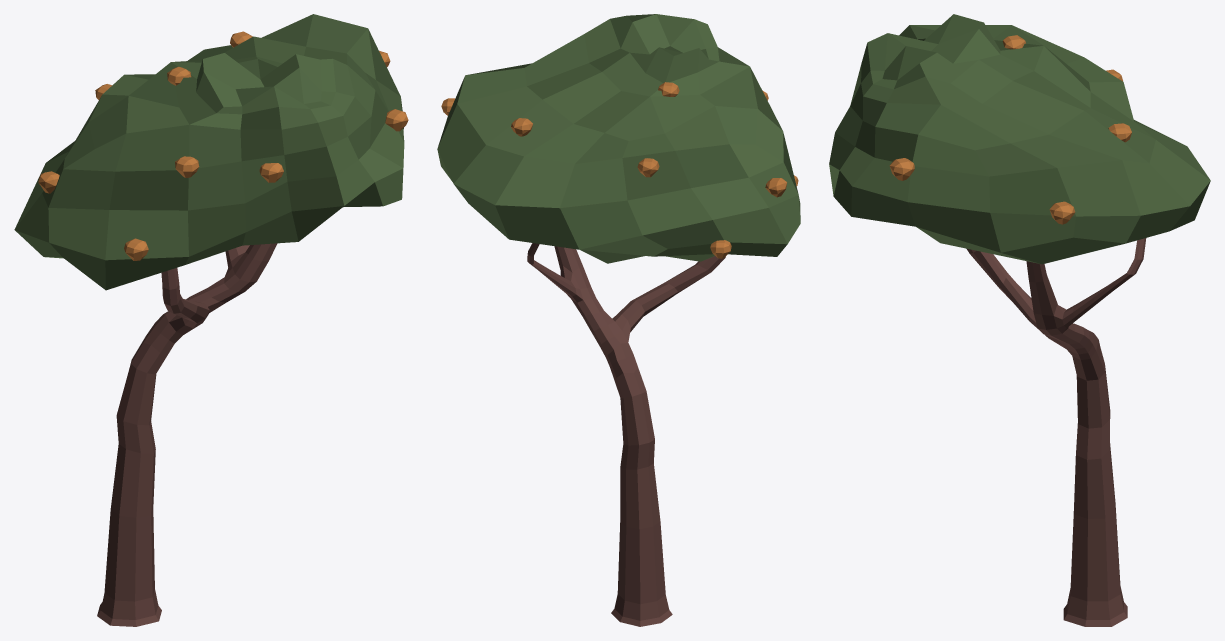
File: orange_4.gltf
The picture shows the model from 3 angles, left to right: view 1: azimuth 30°, elevation 25°; view 2: azimuth 150°, elevation 25°; view 3: azimuth 270°, elevation 25°; orthographic projection. The views are drawn at different scales.
Visible parts, largest first — view 1: orange_4; view 2: orange_4; view 3: orange_4.
Boxes of the visible parts, <box> form: orange_4: <box>14,14,408,626</box>; orange_4: <box>437,14,800,626</box>; orange_4: <box>829,14,1210,626</box>.
Size of the model in its own units: 1.86 by 2.76 by 1.58.
Materials: 1 (1 with a texture image).
